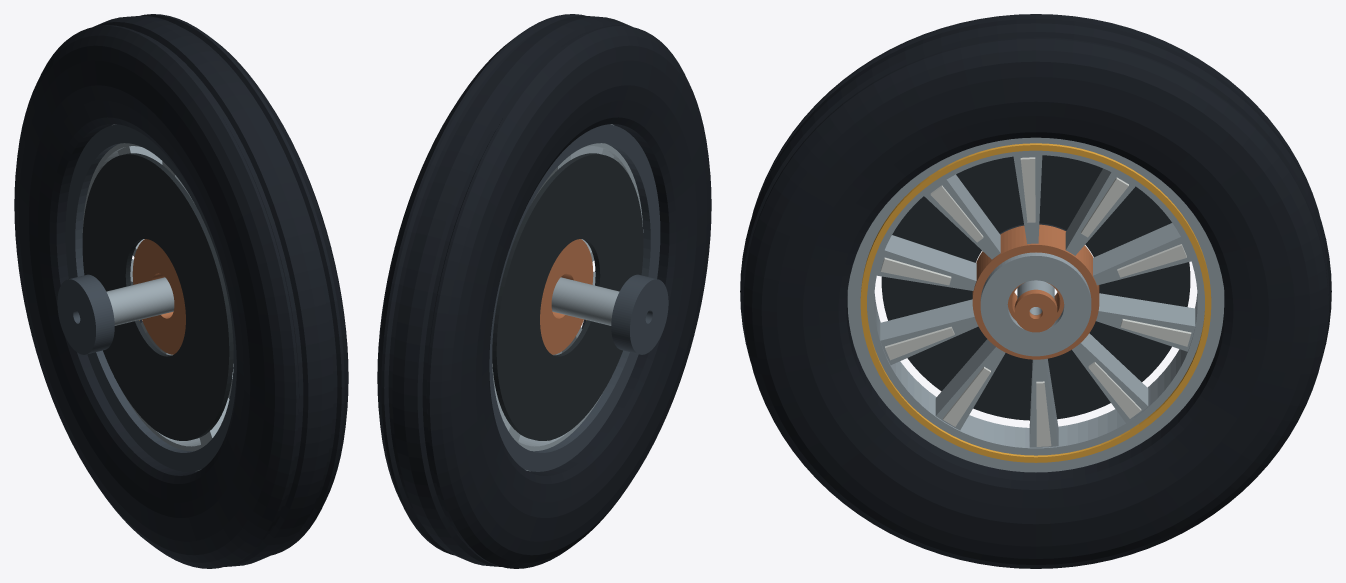
Rendered from M02-002_narrow_speed_wheel.obj.
3 views of the same model, side by side, from view 1: azimuth 30°, elevation 25°; view 2: azimuth 150°, elevation 25°; view 3: azimuth 270°, elevation 25° (orthographic). The views are drawn at different scales.
Visible parts, largest first — view 1: Narrow_Rubber_Tire, Brake_Rotor, Rear_Rim_Lip, Mount_Flange_STATIC, Hub_Carrier, Axle_Shaft_STATIC, Forged_Rim; view 2: Narrow_Rubber_Tire, Brake_Rotor, Rear_Rim_Lip, Mount_Flange_STATIC, Hub_Carrier, Axle_Shaft_STATIC, Forged_Rim; view 3: Narrow_Rubber_Tire, Brake_Rotor, Forged_Rim, Amber_Front_Ring, Hub_Front, Hub_Carrier, Spoke_Alloy_07, Spoke_Alloy_03, Spoke_Alloy_02, Spoke_Alloy_08, Spoke_Alloy_06, Spoke_Alloy_04 (+15 smaller).
Part boxes in pixels (left/top/right/bottom): Narrow_Rubber_Tire: left=14, top=14, right=348, bottom=568; Brake_Rotor: left=82, top=153, right=233, bottom=440; Rear_Rim_Lip: left=65, top=124, right=236, bottom=471; Mount_Flange_STATIC: left=57, top=274, right=114, bottom=354; Hub_Carrier: left=132, top=239, right=185, bottom=354; Axle_Shaft_STATIC: left=106, top=277, right=174, bottom=325; Forged_Rim: left=82, top=124, right=211, bottom=471; Narrow_Rubber_Tire: left=377, top=14, right=711, bottom=568; Brake_Rotor: left=492, top=153, right=643, bottom=440; Rear_Rim_Lip: left=489, top=124, right=660, bottom=471; Mount_Flange_STATIC: left=611, top=274, right=668, bottom=354; Hub_Carrier: left=540, top=239, right=593, bottom=354; Axle_Shaft_STATIC: left=551, top=277, right=619, bottom=325; Forged_Rim: left=514, top=124, right=643, bottom=471; Narrow_Rubber_Tire: left=740, top=14, right=1331, bottom=568; Brake_Rotor: left=881, top=155, right=1190, bottom=420; Forged_Rim: left=847, top=137, right=1224, bottom=472; Amber_Front_Ring: left=860, top=143, right=1211, bottom=462; Hub_Front: left=980, top=252, right=1091, bottom=356; Hub_Carrier: left=972, top=224, right=1099, bottom=359; Spoke_Alloy_07: left=1096, top=293, right=1195, bottom=351; Spoke_Alloy_03: left=880, top=299, right=978, bottom=364; Spoke_Alloy_02: left=877, top=235, right=976, bottom=290; Spoke_Alloy_08: left=1093, top=223, right=1190, bottom=285; Spoke_Alloy_06: left=1072, top=333, right=1148, bottom=422; Spoke_Alloy_04: left=935, top=339, right=1005, bottom=430.
Bounding box in the file's own units: 0.315 × 1.05 × 1.05.
